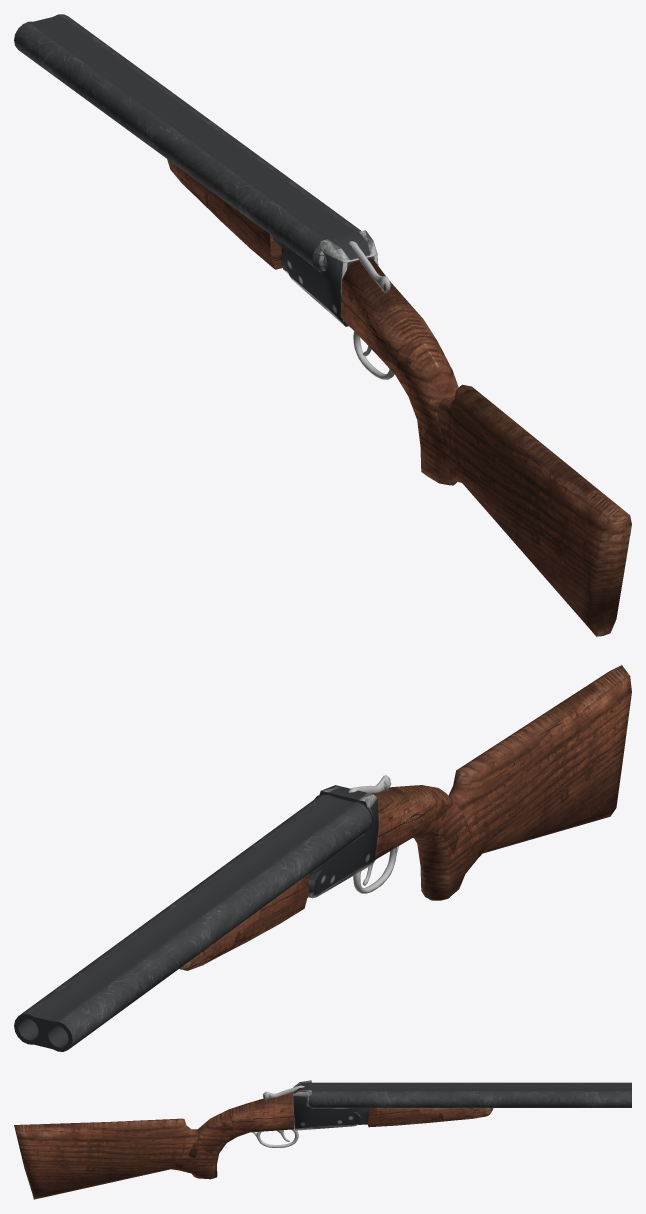
Rendered from Double barrel shotgun.fbx.
The picture shows the model from 3 angles, top to bottom: view 1: azimuth 30°, elevation 25°; view 2: azimuth 150°, elevation 25°; view 3: azimuth 270°, elevation 25°; orthographic projection. The views are drawn at different scales.
Parts seen in each view (by area): view 1: Large Stock, Large Barrel, Small Barrel, Body, Small Stock, Grip; view 2: Large Stock, Large Barrel, Small Barrel, Body, Grip, Small Stock; view 3: Large Stock, Large Barrel, Small Barrel, Body, Grip, Small Stock.
Part boxes in pixels (left/top/right/bottom): Large Stock: left=340, top=258, right=631, bottom=636; Large Barrel: left=14, top=14, right=360, bottom=265; Small Barrel: left=124, top=94, right=360, bottom=264; Body: left=273, top=230, right=394, bottom=379; Small Stock: left=395, top=338, right=458, bottom=441; Grip: left=167, top=159, right=284, bottom=269; Large Stock: left=371, top=665, right=631, bottom=900; Large Barrel: left=14, top=795, right=371, bottom=1051; Small Barrel: left=132, top=795, right=371, bottom=966; Body: left=308, top=775, right=398, bottom=898; Grip: left=179, top=875, right=308, bottom=970; Small Stock: left=422, top=785, right=471, bottom=854; Large Stock: left=14, top=1092, right=294, bottom=1199; Large Barrel: left=311, top=1082, right=631, bottom=1107; Small Barrel: left=312, top=1082, right=515, bottom=1107; Body: left=252, top=1080, right=368, bottom=1147; Grip: left=357, top=1108, right=493, bottom=1127; Small Stock: left=188, top=1109, right=236, bottom=1157.
Size of the model in its own units: 14.72 by 48.64 by 241.
